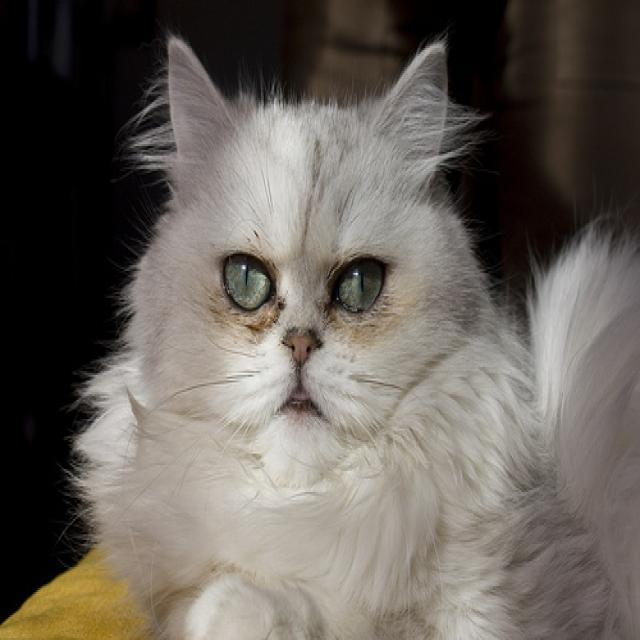Persian: (165, 35, 446, 481)
